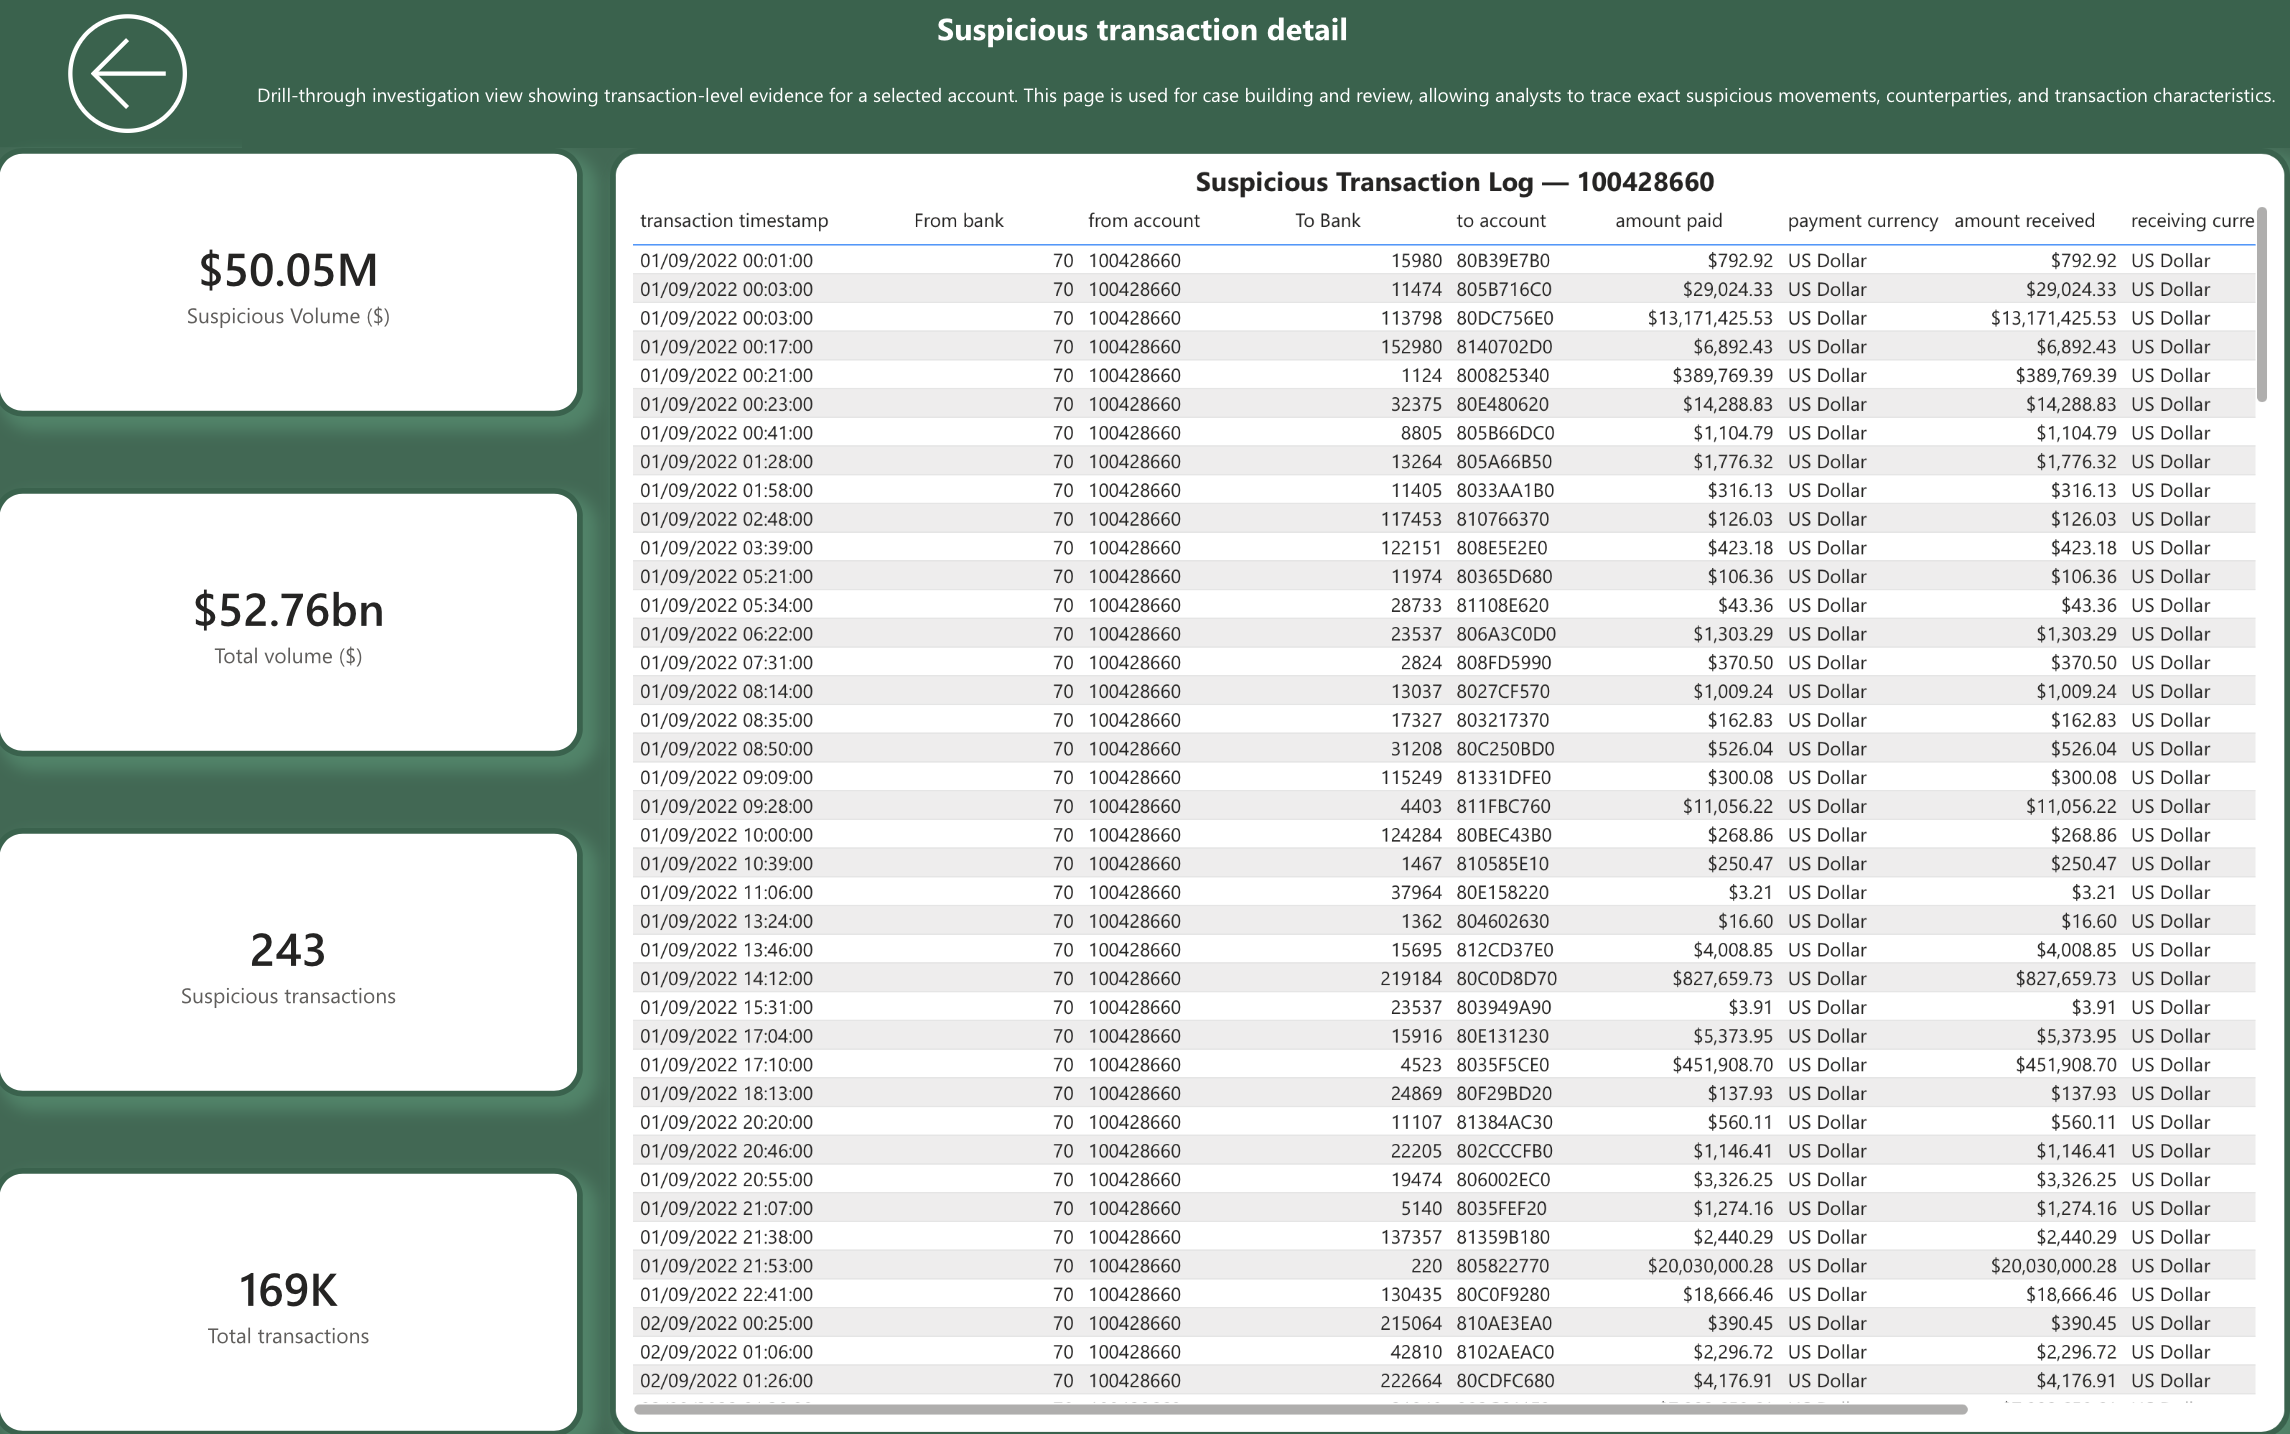

What the dashboard file says about the page in this screenshot:
{"tool":"powerbi","page":{"name":"Suspicious Transaction Detail","canvas":[1600,1000],"ordinal":3},"visuals":[{"type":"textbox","box":[0,0,1599.5,102.5],"z":0},{"type":"cardVisual","fields":{"Data":["Sum(account_risk_cache.total_txns)"]},"box":[0,812.9,410,187.1],"z":1000},{"type":"cardVisual","fields":{"Data":["Sum(account_risk_cache.suspicious_txns)"]},"box":[0,576.5,410,187.1],"z":2000},{"type":"cardVisual","fields":{"Data":["Sum(account_risk_cache.total_volume_usd)"]},"box":[0,339.5,410,187.1],"z":3000},{"type":"cardVisual","fields":{"Data":["Page 4 measures.Suspicious Volume ($)"]},"box":[0,102.5,410,187.1],"z":4000},{"type":"tableEx","fields":{"Values":["suspicious_transactions_cache.transaction_ts","Sum(suspicious_transactions_cache.from_bank)","suspicious_transactions_cache.from_account","Sum(suspicious_transactions_cache.to_bank)","suspicious_transactions_cache.to_account","Sum(suspicious_transactions_cache.amount_paid)","suspicious_transactions_cache.payment_currency","Sum(suspicious_transactions_cache.amount_received)","suspicious_transactions_cache.receiving_currency","suspicious_transactions_cache.payment_format","suspicious_transactions_cache.is_cross_currency"]},"box":[429.6,102.5,1169.9,898.2],"z":5000},{"type":"actionButton","box":[42.3,0,115.5,102.5],"z":6000},{"type":"textbox","box":[173.4,51.4,1427,51.4],"z":6001}]}

Visuals, with their boxes in screenshot pixels (x1, y1, x2, y2), scaled from the page's 1600x1000 canvas onto the 2290x1434 screenshot:
textbox: (left=0, top=0, right=2289, bottom=147)
cardVisual - Sum(account_risk_cache.total_txns): (left=0, top=1166, right=587, bottom=1433)
cardVisual - Sum(account_risk_cache.suspicious_txns): (left=0, top=827, right=587, bottom=1095)
cardVisual - Sum(account_risk_cache.total_volume_usd): (left=0, top=487, right=587, bottom=755)
cardVisual - Page 4 measures.Suspicious Volume ($): (left=0, top=147, right=587, bottom=415)
tableEx - suspicious_transactions_cache.transaction_ts x Sum(suspicious_transactions_cache.from_bank): (left=615, top=147, right=2289, bottom=1433)
actionButton: (left=61, top=0, right=226, bottom=147)
textbox: (left=248, top=74, right=2289, bottom=147)
